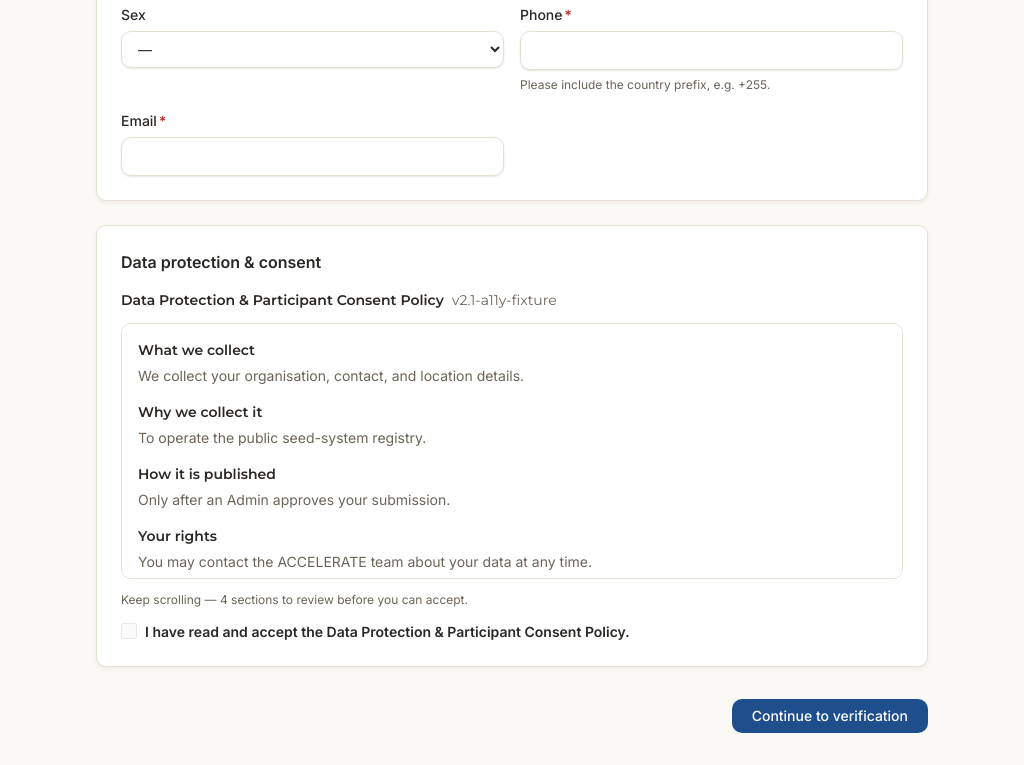
Test case: /register — form step, whole-page axe (T-22, NFR-5, QA-11) › aria-describedby errors + live-region announcement: the summary is assertive, and phone/crops each resolve to a live error element
The width and height of the screenshot is (1024, 765).
(page scrolled)
Expected: the heading "What we collect" is shown, [138,340,255,358]
Click the button "Continue to verification" at [830, 716], box [732,698,928,732]
(page scrolled)
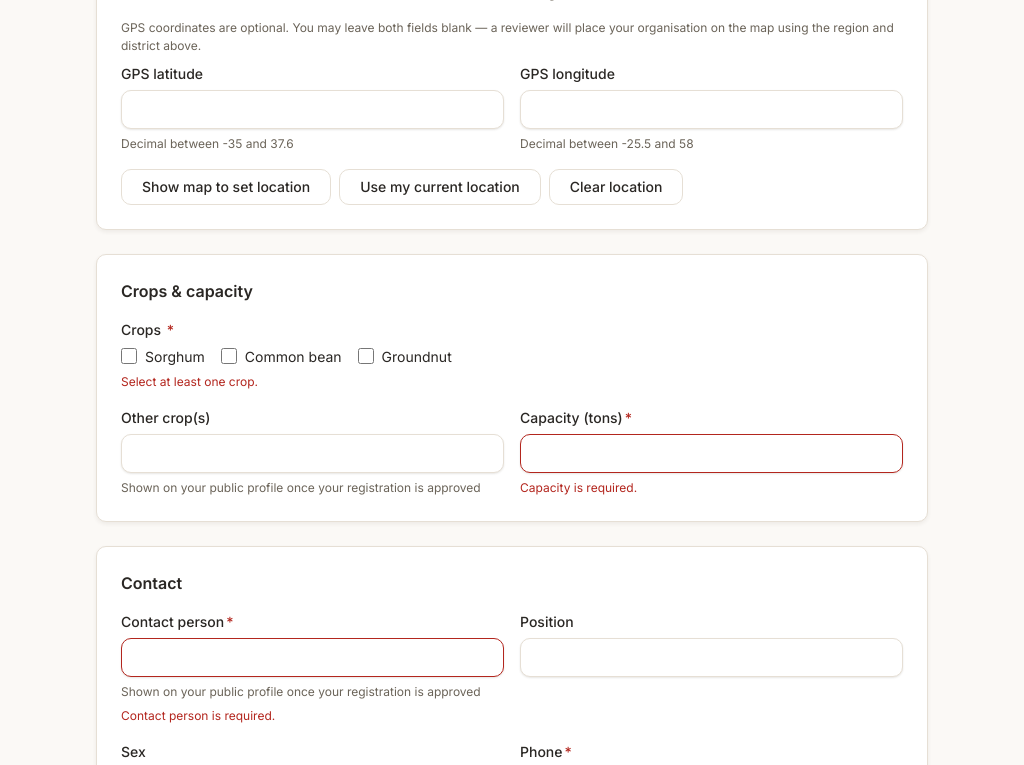
Now the message "Select at least one crop." is shown, box [121,374,258,388]
